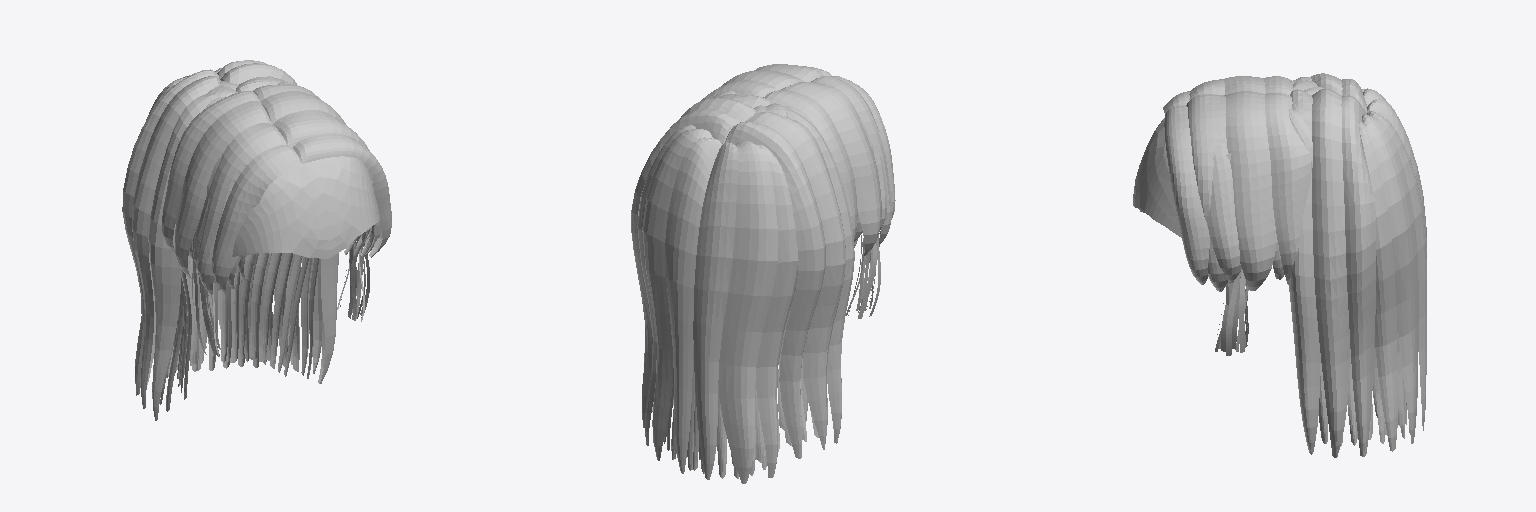
File: hair5.obj
3 views of the same model, side by side, from view 1: azimuth 30°, elevation 25°; view 2: azimuth 150°, elevation 25°; view 3: azimuth 270°, elevation 25° (orthographic).
Visible parts, largest first — view 1: hair5.001; view 2: hair5.001; view 3: hair5.001.
Part boxes in pixels (x1,y1,x2,y2): hair5.001: (122,60,391,420); hair5.001: (631,64,895,483); hair5.001: (1133,73,1426,457).
Size of the model in its own units: 0.0756 by 0.123 by 0.0969.